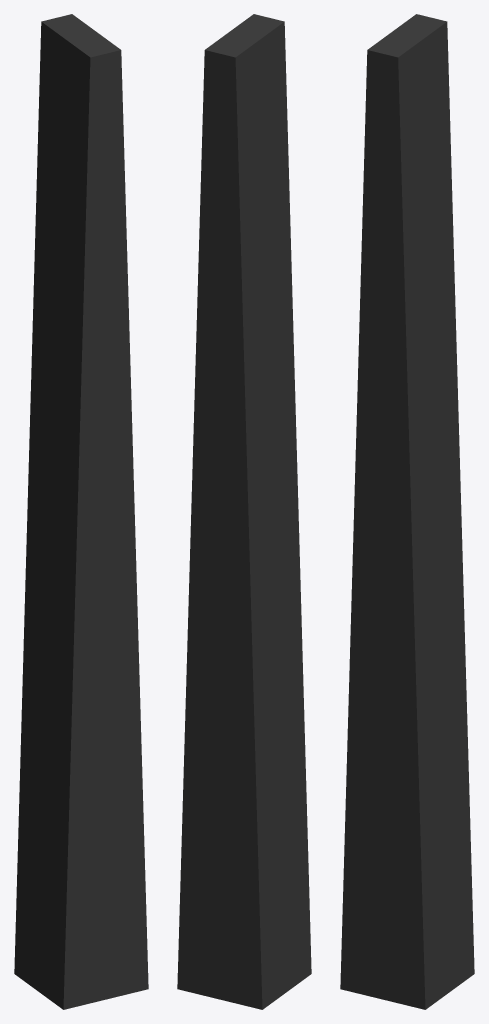
Rendered from Clock1_C1_02.fbx.
3 views of the same model, side by side, from view 1: azimuth 30°, elevation 25°; view 2: azimuth 150°, elevation 25°; view 3: azimuth 330°, elevation 25° (orthographic).
Visible parts, largest first — view 1: Clock1_C1_02; view 2: Clock1_C1_02; view 3: Clock1_C1_02.
Boxes of the visible parts, left/top/right/bottom form: Clock1_C1_02: left=14, top=14, right=148, bottom=1009; Clock1_C1_02: left=177, top=14, right=311, bottom=1009; Clock1_C1_02: left=340, top=14, right=474, bottom=1009.
Bounding box in the file's own units: 0.7428 × 7.89 × 0.7428.
